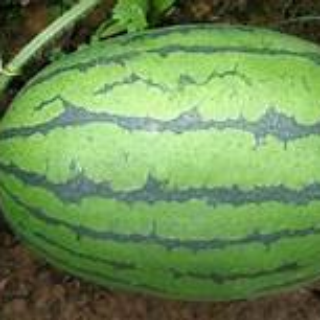dua_hau: (2, 24, 320, 305)
